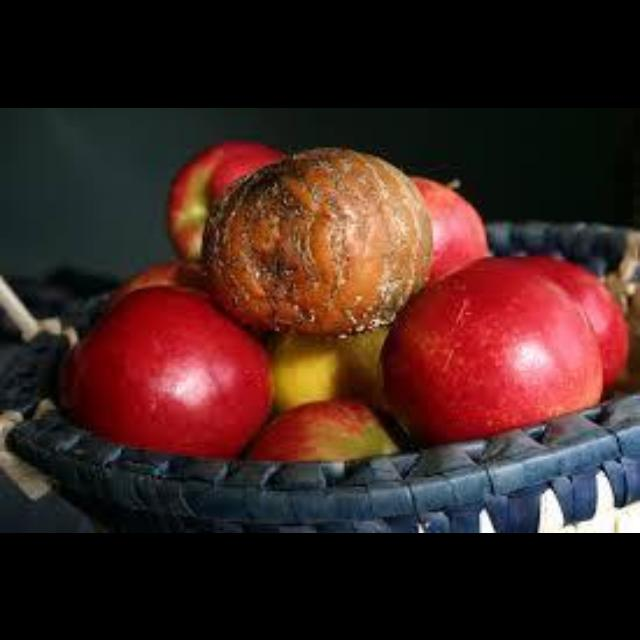apple: (200, 147, 431, 333), (382, 256, 600, 442), (58, 286, 270, 456), (519, 256, 626, 384), (168, 140, 282, 258), (412, 177, 486, 279)
rotten: (200, 147, 431, 333)
